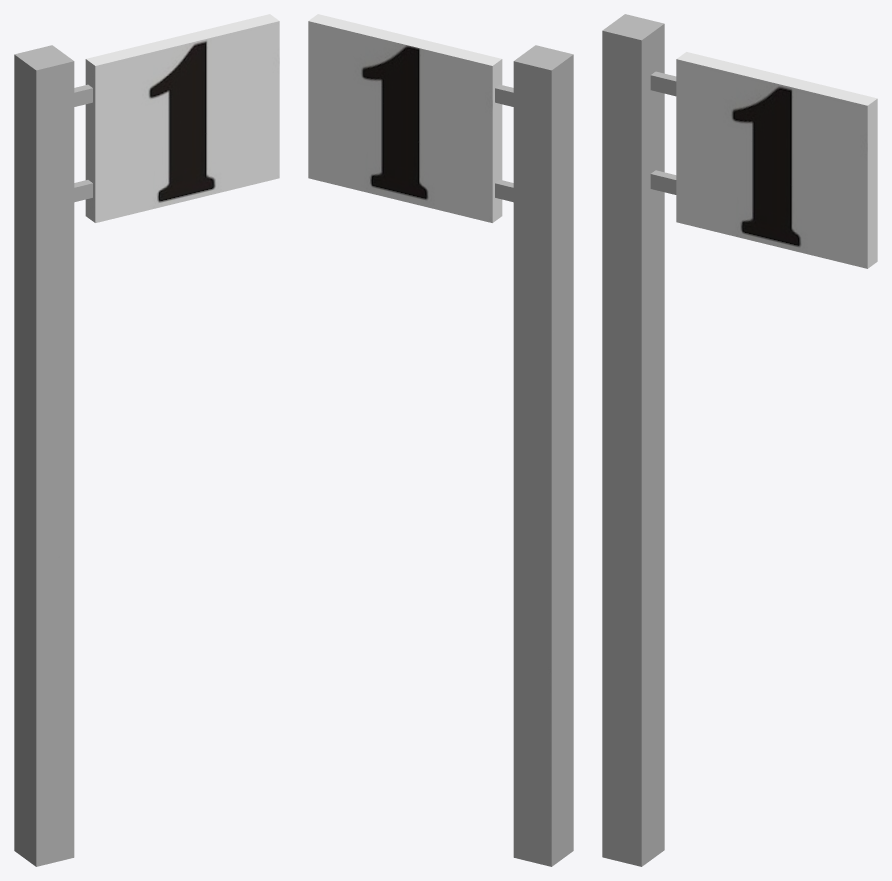
The model's file is PlatformNumber1.FBX.
3 views of the same model, side by side, from view 1: azimuth 30°, elevation 25°; view 2: azimuth 150°, elevation 25°; view 3: azimuth 330°, elevation 25° (orthographic). The views are drawn at different scales.
Parts seen in each view (by area): view 1: Numer peronu006; view 2: Numer peronu006; view 3: Numer peronu006.
Part boxes in pixels (<box>): Numer peronu006: <box>14,14,279,866</box>; Numer peronu006: <box>308,14,573,866</box>; Numer peronu006: <box>602,14,877,866</box>.
Bounding box in the file's own units: 2374 × 362 × 7241.
1 material, 1 textured.
